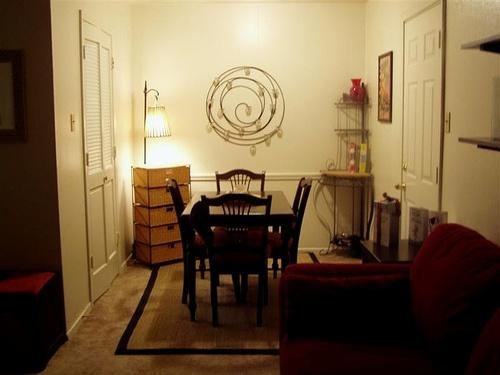chair: (196, 193, 271, 329), (165, 178, 192, 305), (291, 178, 314, 264), (213, 170, 267, 190)
diningtable: (183, 187, 298, 319)
sofa: (278, 223, 500, 375)
